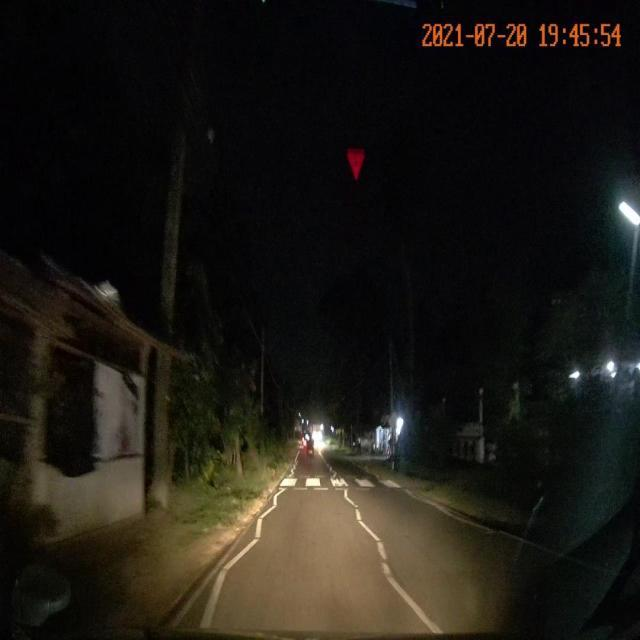Crosswalk: (275, 475, 410, 492)
